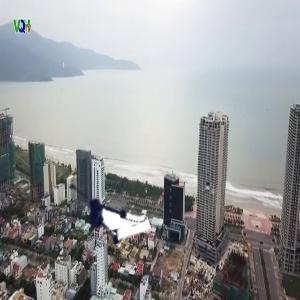drone: (53, 164, 144, 255)
